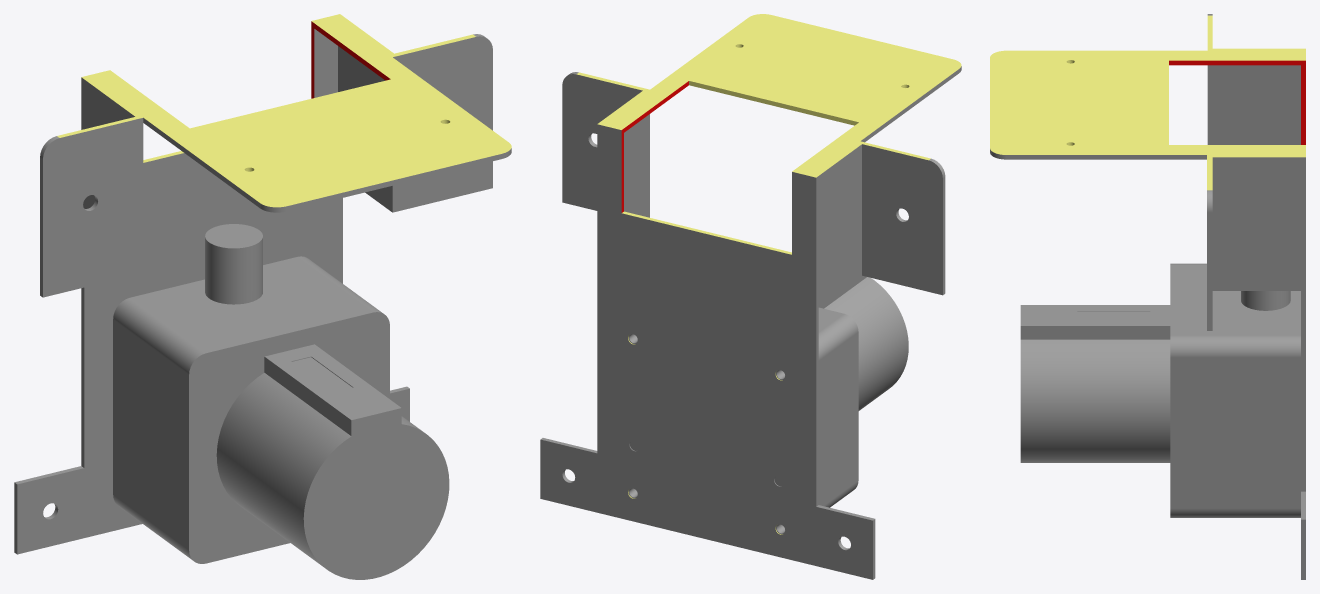
File: lidar_link.obj
The picture shows the model from 3 angles, left to right: view 1: azimuth 30°, elevation 25°; view 2: azimuth 150°, elevation 25°; view 3: azimuth 270°, elevation 25°; orthographic projection. The views are drawn at different scales.
Parts seen in each view (by area): view 1: lidar; view 2: lidar; view 3: lidar.
Part boxes in pixels (x1,y1,x2,y2): lidar: (14,14,511,579); lidar: (540,14,961,579); lidar: (990,14,1305,579).
Size of the model in its own units: 0.1343 by 0.1309 by 0.095.
